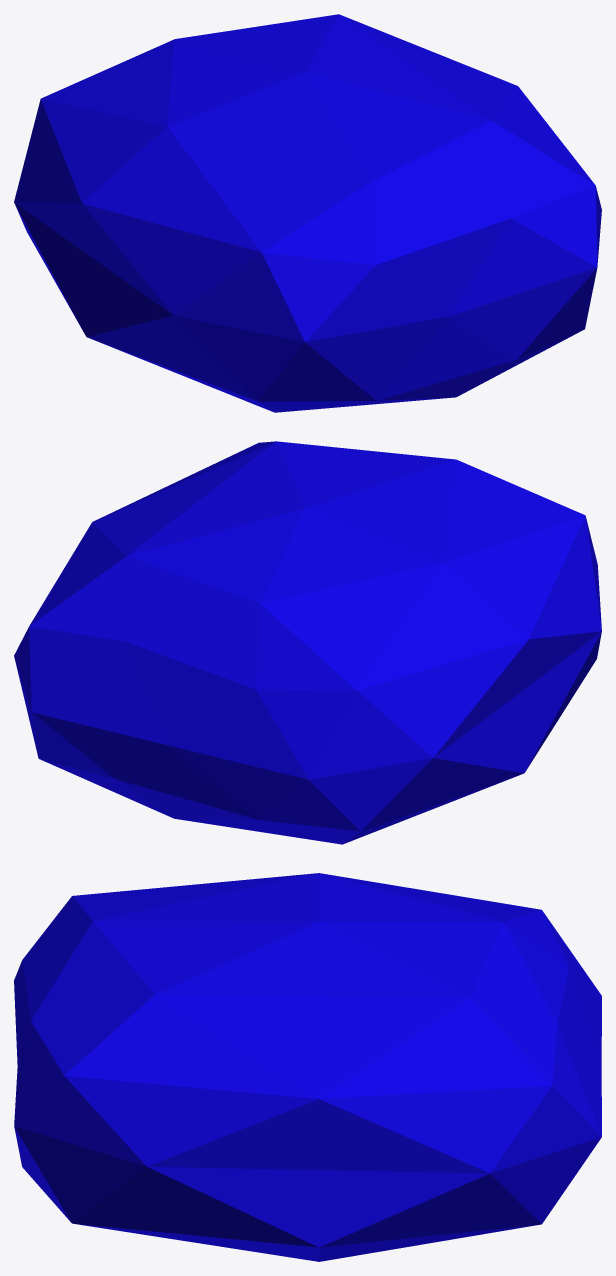
The model's file is CargoShip.fbx.
The picture shows the model from 3 angles, top to bottom: view 1: azimuth 30°, elevation 25°; view 2: azimuth 150°, elevation 25°; view 3: azimuth 270°, elevation 25°; orthographic projection. The views are drawn at different scales.
Parts seen in each view (by area): view 1: Shield; view 2: Shield; view 3: Shield.
Boxes of the visible parts, bbox=[...] form: Shield: bbox=[14, 14, 601, 412]; Shield: bbox=[14, 441, 601, 844]; Shield: bbox=[14, 873, 601, 1261].
Bounding box in the file's own units: 20.34 × 21.97 × 11.94.
